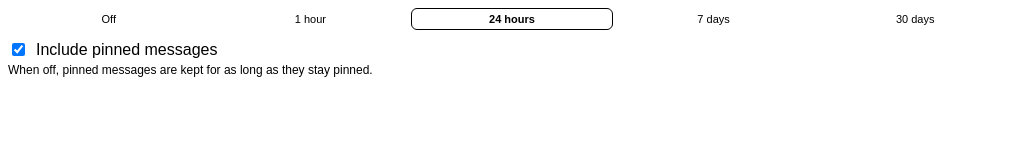
Test: staging the switch › Discard drops a staged switch along with a staged window
Click the checkbox labelled "Include pinned messages": (18, 50) [12,43,25,56]
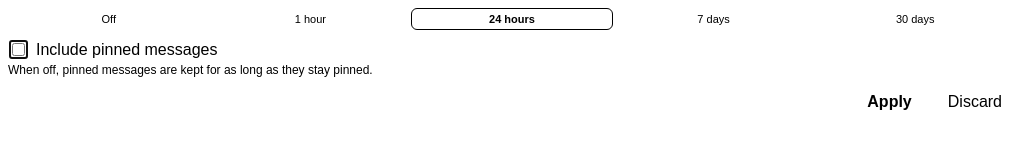
Click the button "7 days": (714, 19) [613,8,814,30]
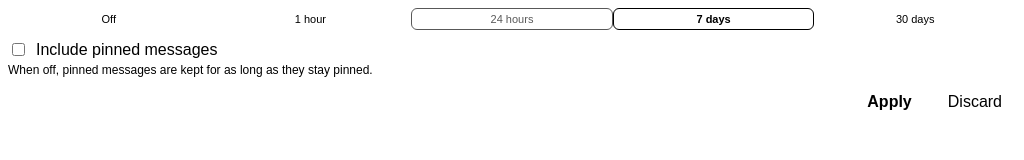
Click the button "Discard": (975, 102) [934,87,1016,117]
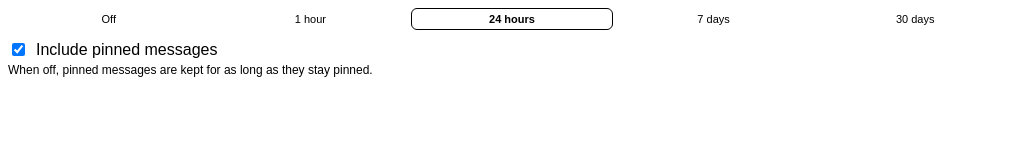
Now the checkbox labelled "Include pinned messages" is checked, box [12,43,25,56]
Now the button "Apply" is gone
